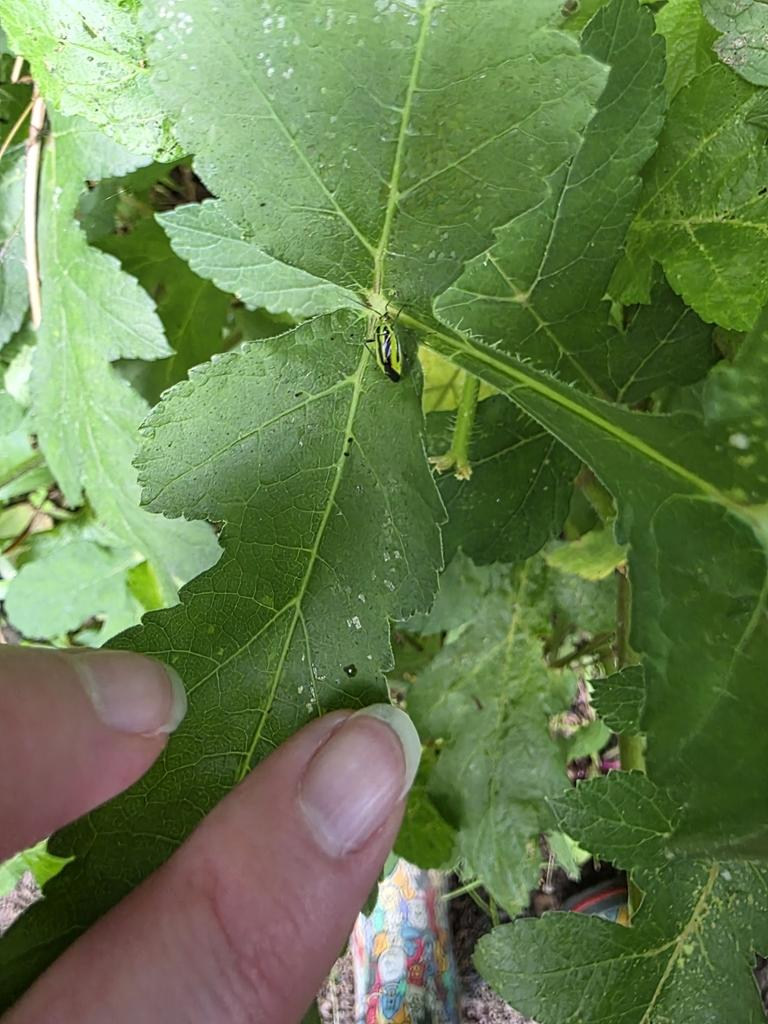plant_bugs: (330, 281, 425, 397)
